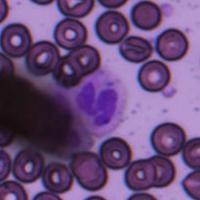N: (66, 68, 127, 137)
